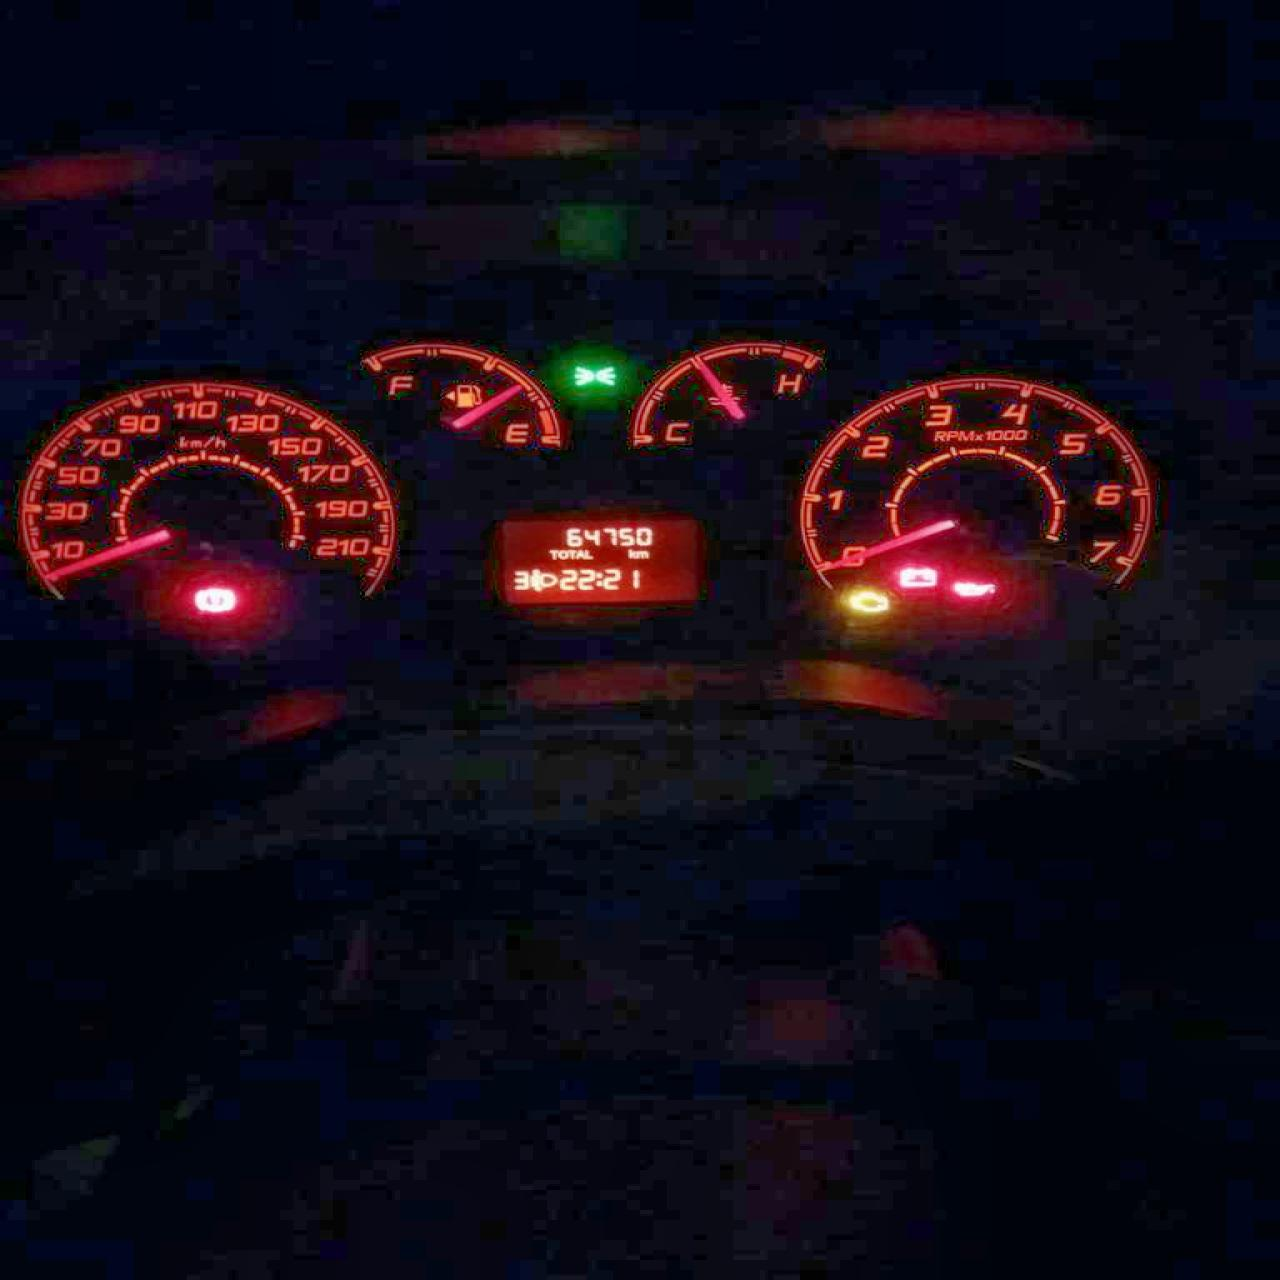0: (633, 526, 652, 545)
1: (629, 567, 640, 588)
2: (601, 567, 620, 591), (558, 567, 577, 591), (577, 567, 593, 591)
3: (512, 568, 529, 590)
4: (581, 529, 600, 546)
5: (617, 526, 633, 546)
6: (564, 526, 581, 546)
7: (601, 526, 617, 545)
X: (546, 547, 557, 560), (635, 550, 648, 559), (593, 572, 601, 586), (625, 547, 635, 558), (574, 549, 584, 559), (557, 547, 566, 558), (584, 547, 593, 558), (567, 549, 576, 560)
odometer: (498, 515, 700, 606)
